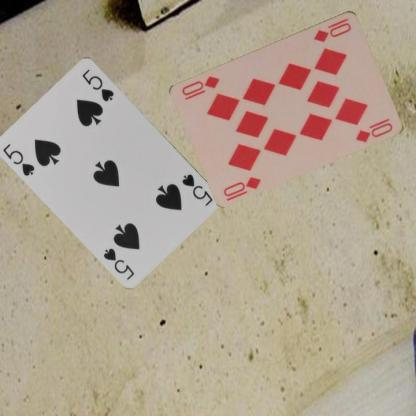10d: (311, 16, 352, 43), (221, 173, 264, 198)
5s: (0, 140, 37, 178), (180, 171, 214, 207)
